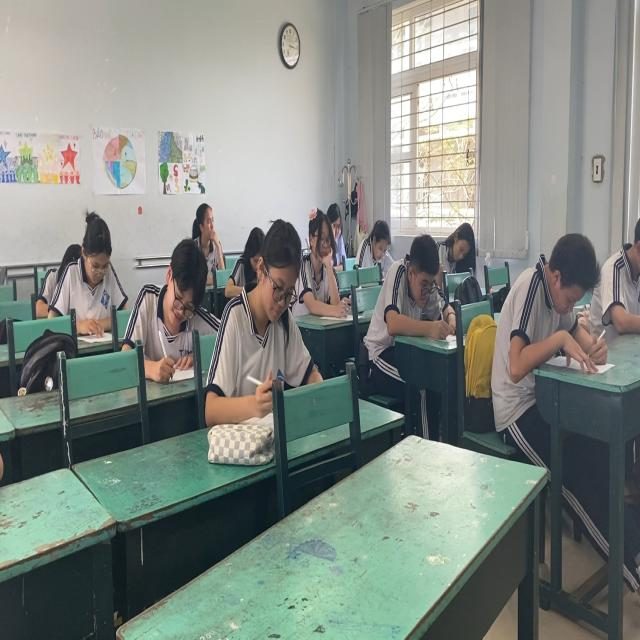not_cheating: (234, 213, 299, 380), (524, 224, 594, 366), (140, 241, 208, 368), (59, 202, 128, 324), (298, 200, 344, 300), (391, 234, 440, 324), (181, 196, 224, 264), (440, 214, 480, 278), (358, 213, 397, 266)
